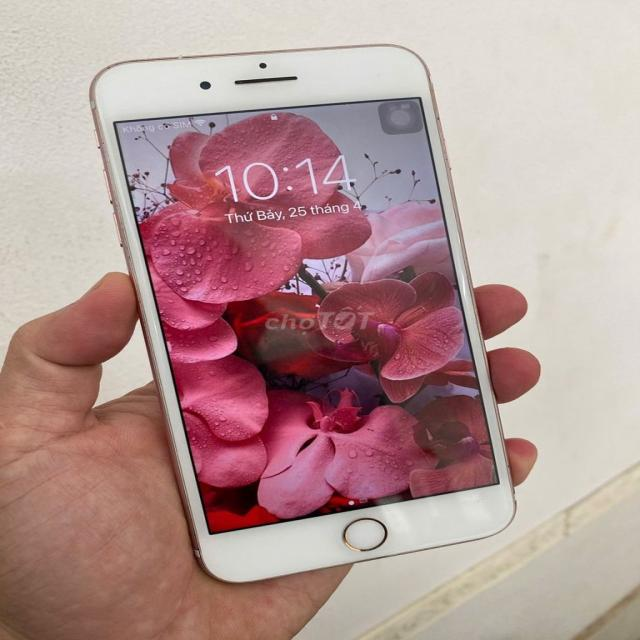scratch: (162, 50, 190, 64)
